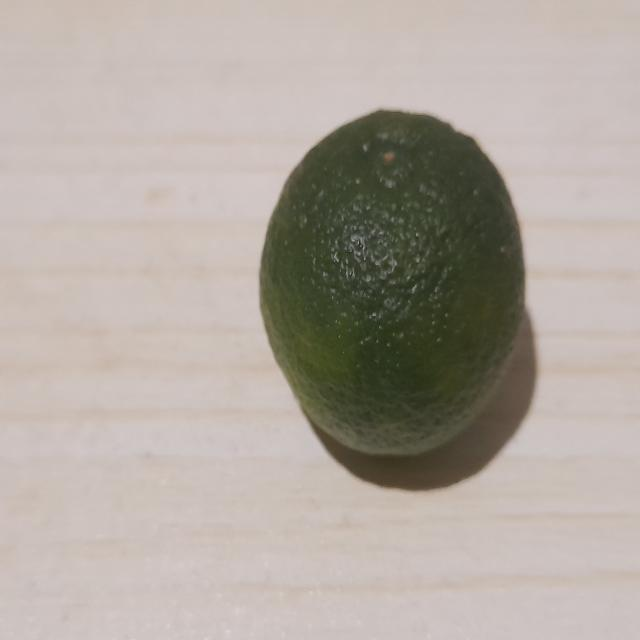heathy: (257, 96, 537, 468)
